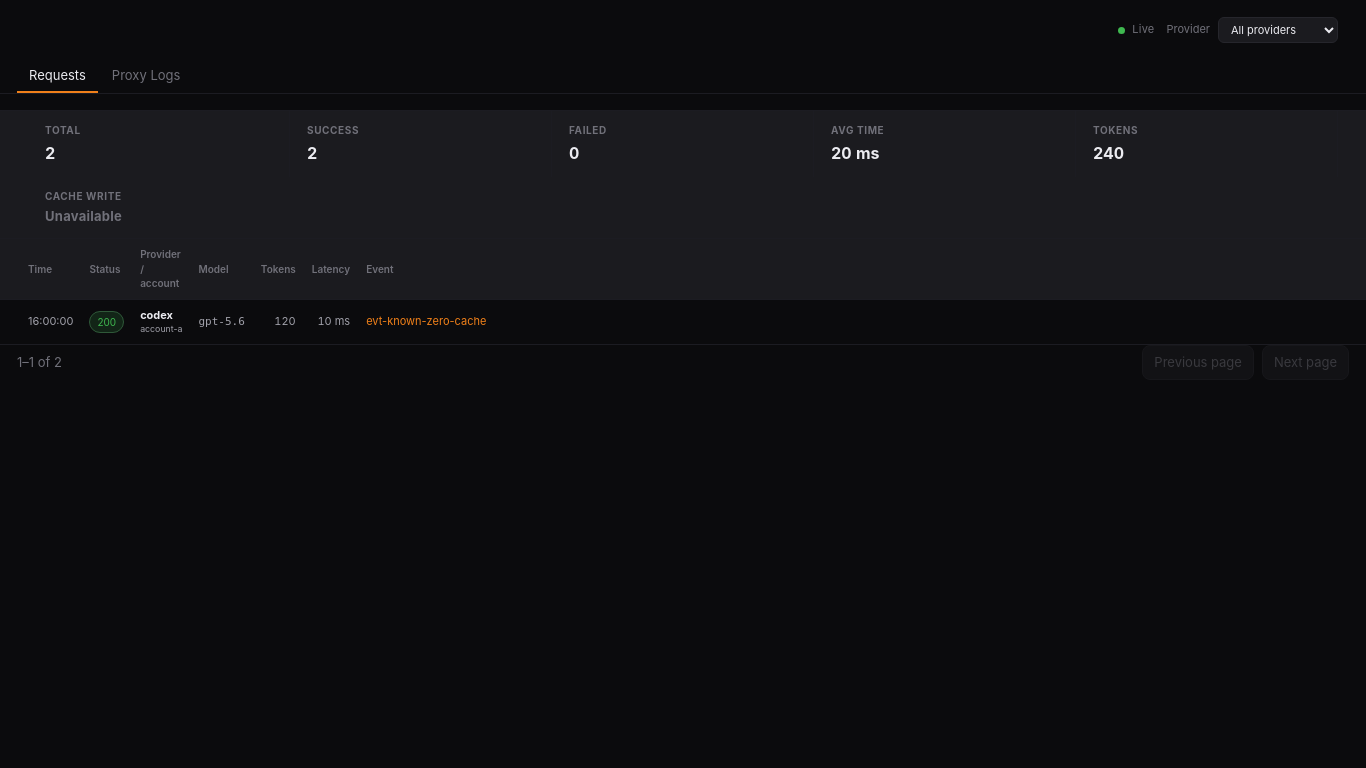
Test: DurableLogs cache token availability › shows a measured zero cache write value in the request detail
Step 1. Click the button with aria-label "view evt-known-zero-cache details" → (426, 321), box [366, 314, 1338, 330]
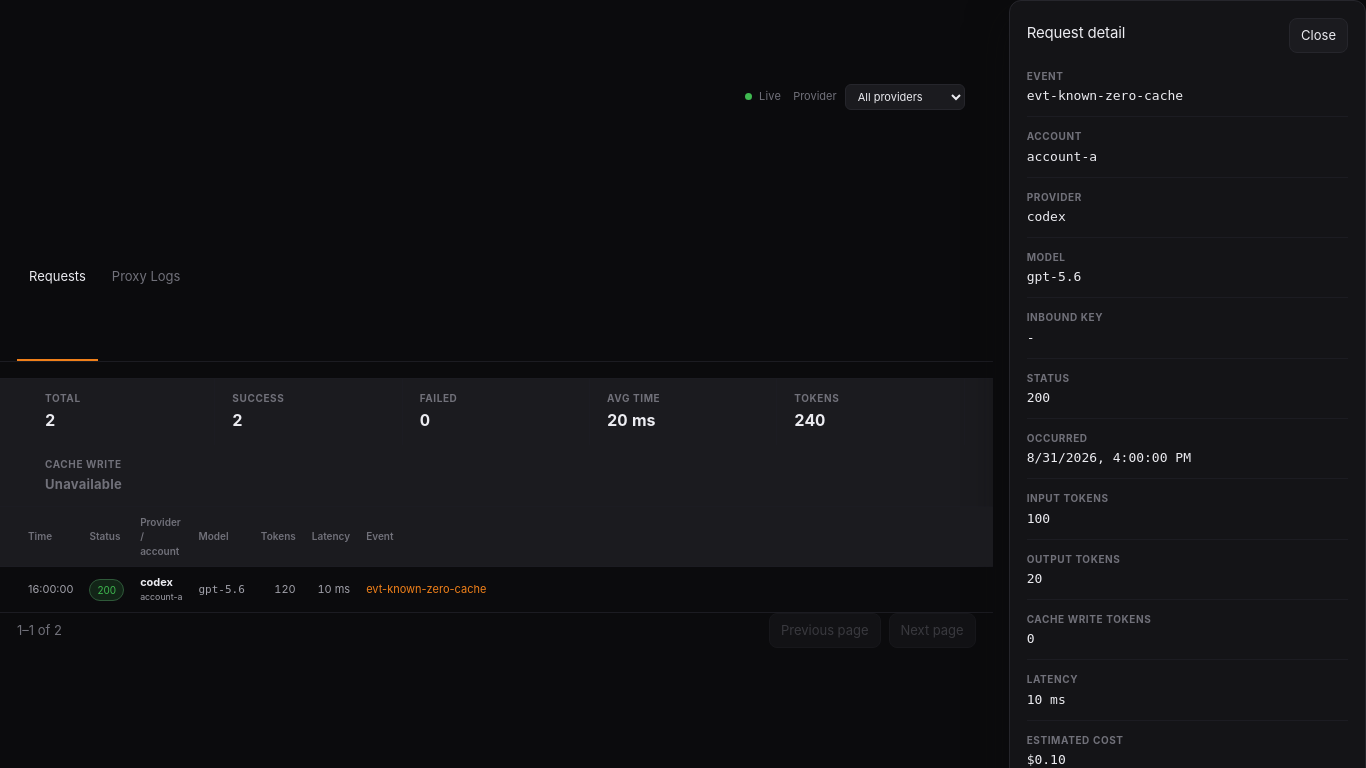
Check: the text "0" below "Cache write tokens" is shown, box [1027, 631, 1034, 646]
